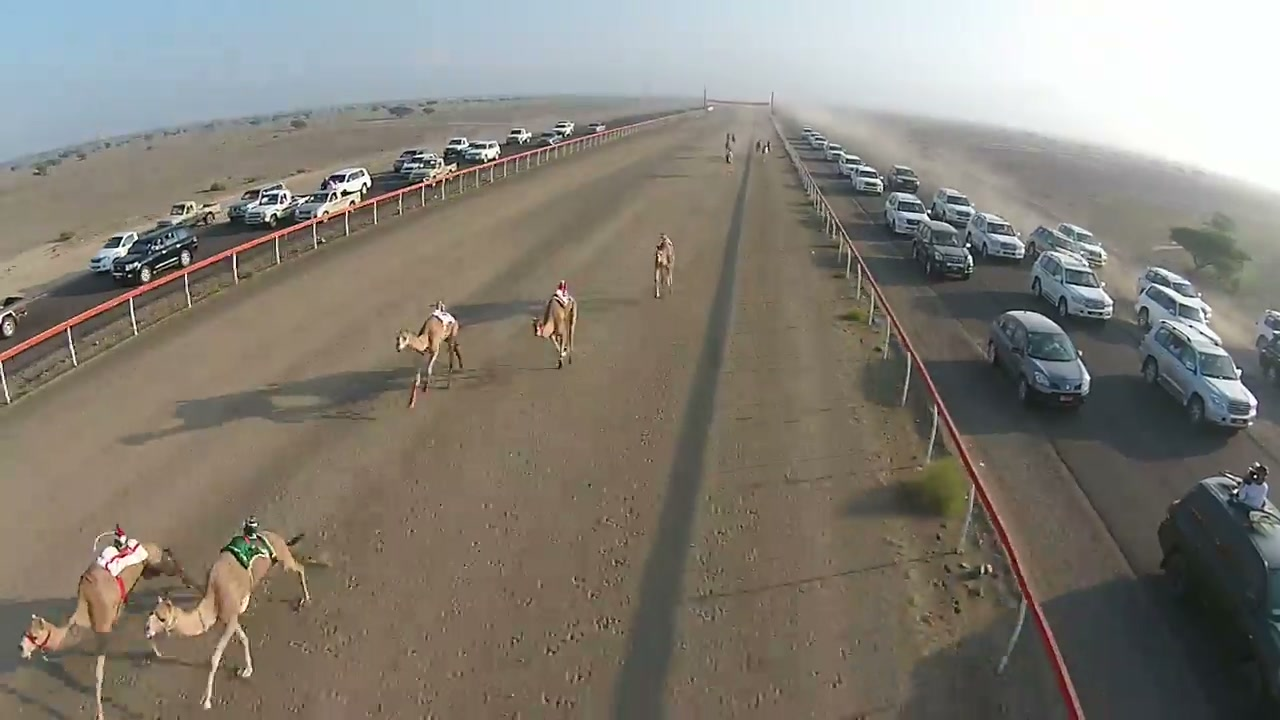animal_footprint: (524, 438, 651, 695)
